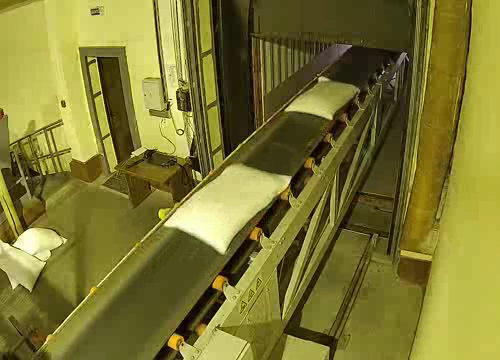bag: (161, 160, 296, 256), (285, 76, 361, 122)
